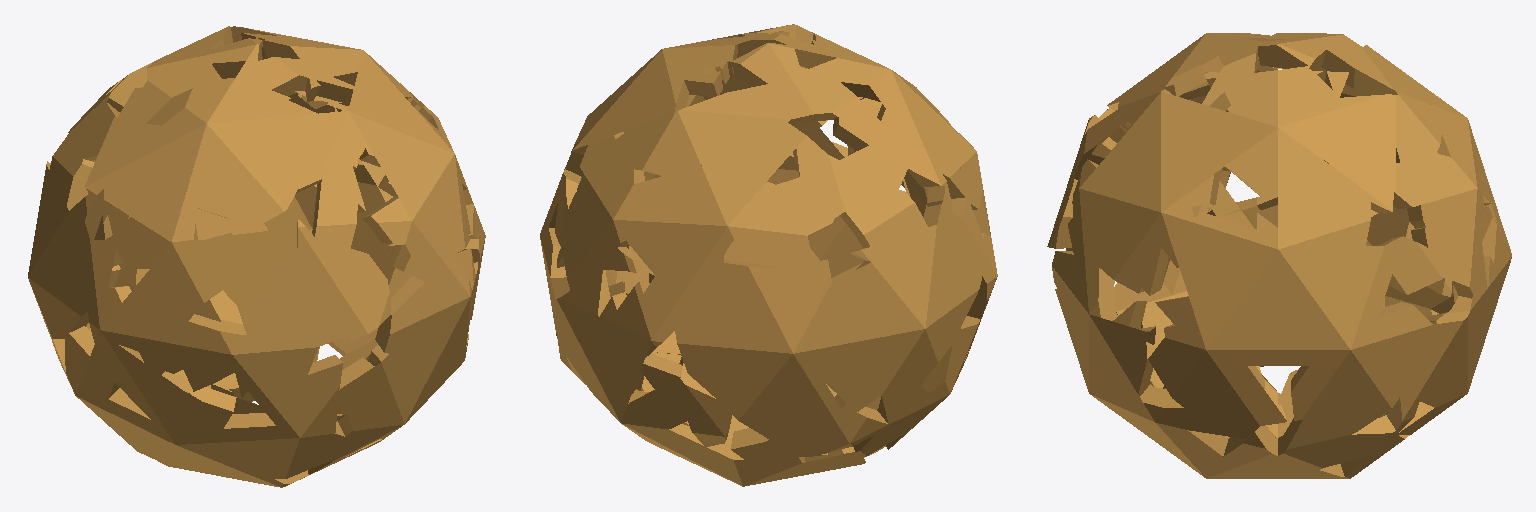
The model's file is Tumbleweed.obj.
3 views of the same model, side by side, from view 1: azimuth 30°, elevation 25°; view 2: azimuth 150°, elevation 25°; view 3: azimuth 270°, elevation 25° (orthographic).
Parts seen in each view (by area): view 1: Icosphere; view 2: Icosphere; view 3: Icosphere.
Part boxes in pixels (x1,y1,x2,y2): Icosphere: (28, 26, 485, 487); Icosphere: (540, 24, 997, 486); Icosphere: (1047, 33, 1511, 478).
Bounding box in the file's own units: 1.9 × 2 × 1.99.